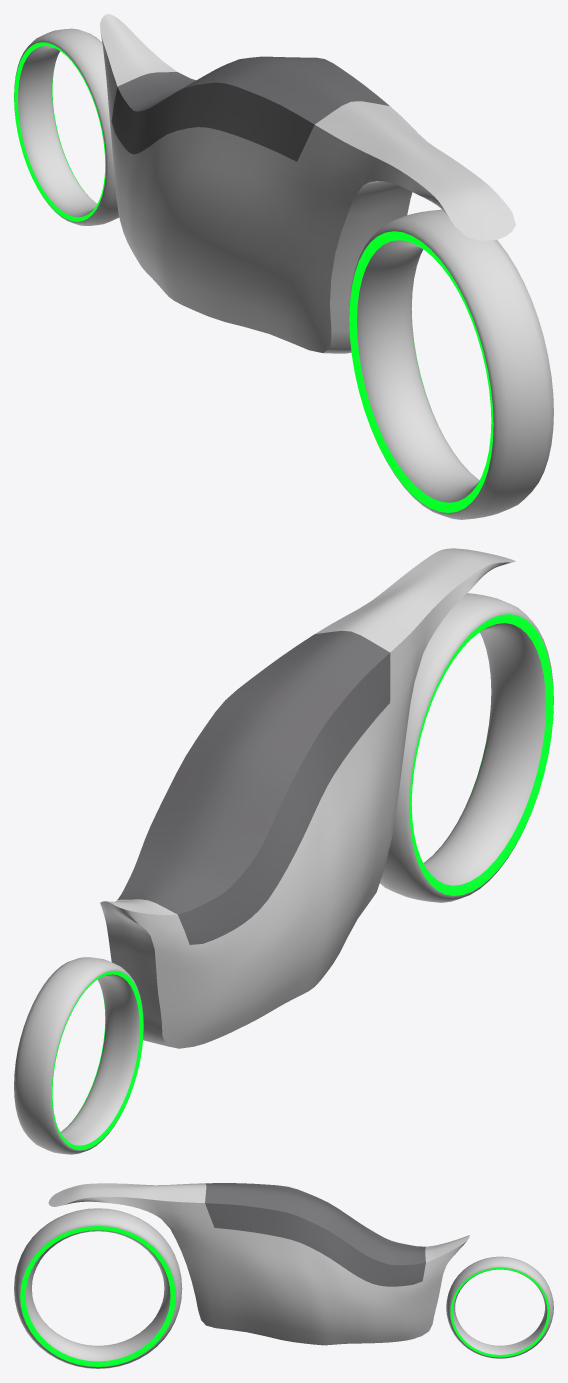
File: M_car2.fbx
The picture shows the model from 3 angles, top to bottom: view 1: azimuth 30°, elevation 25°; view 2: azimuth 150°, elevation 25°; view 3: azimuth 270°, elevation 25°; orthographic projection. The views are drawn at different scales.
Parts seen in each view (by area): view 1: Torus.001; view 2: Torus.001; view 3: Torus.001.
Part boxes in pixels (box(x1,y1,x2,y2)): Torus.001: box(14, 14, 553, 519); Torus.001: box(14, 548, 553, 1154); Torus.001: box(14, 1183, 553, 1368).
Bounding box in the file's own units: 356 × 651 × 1783.
